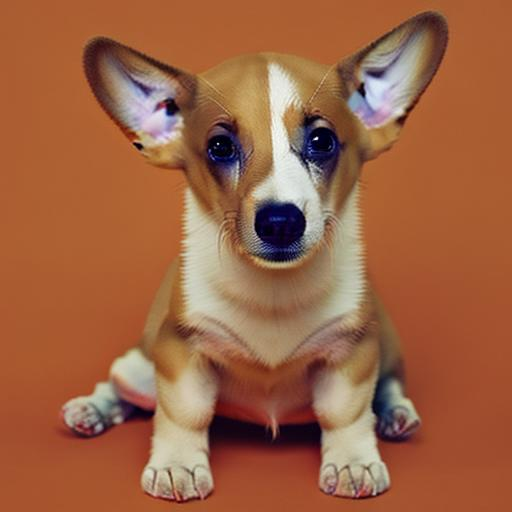eye: (303, 125, 344, 166), (201, 129, 241, 171)
